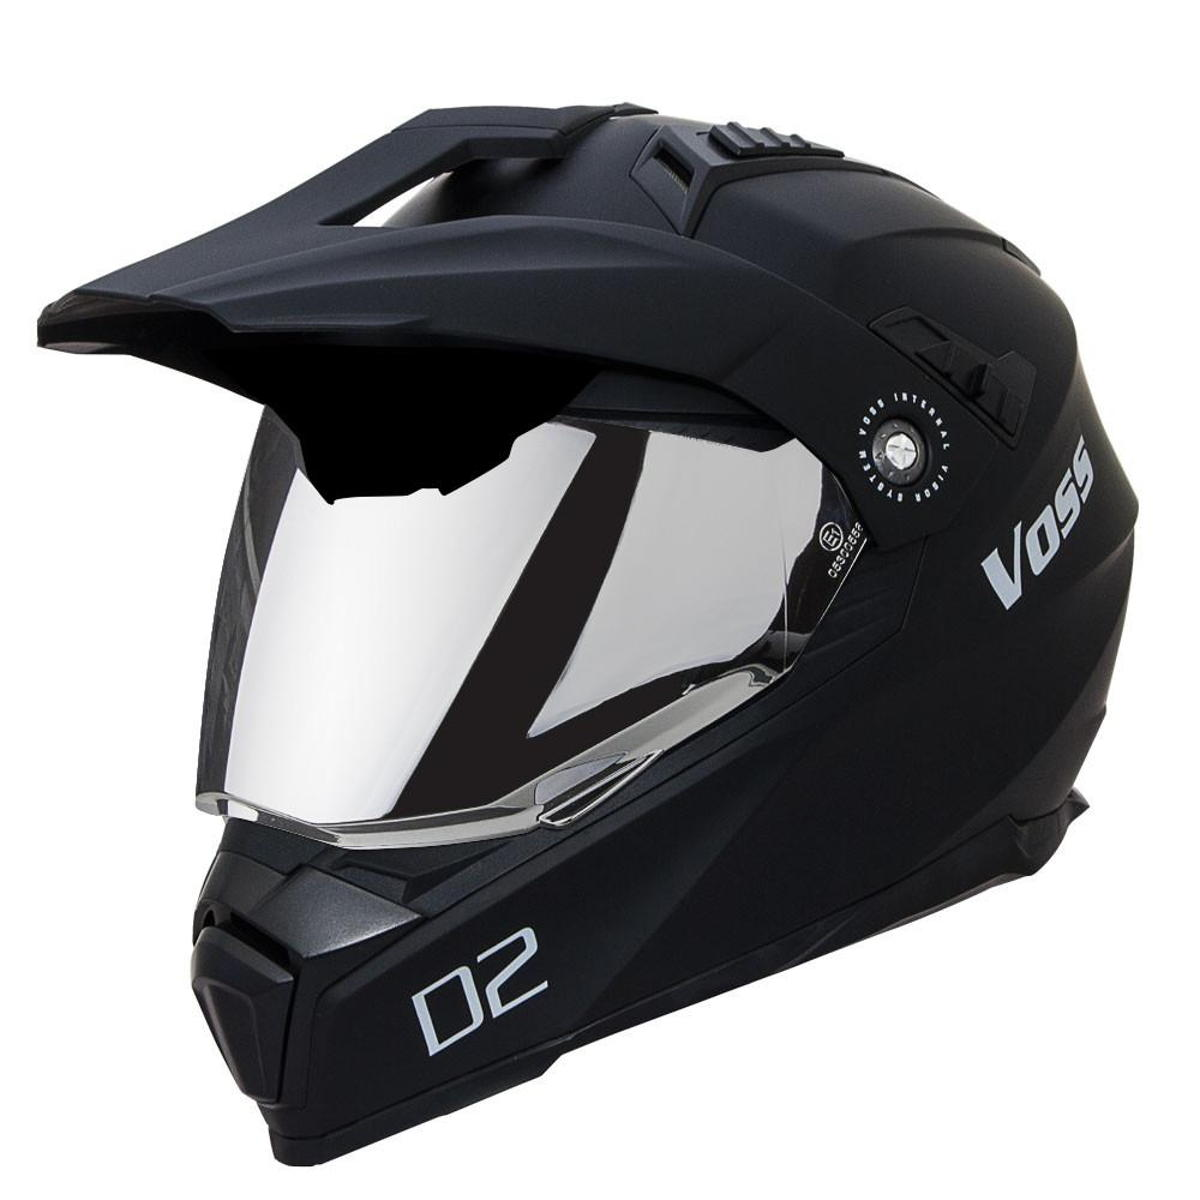with_helmet: (27, 90, 1163, 1174)
